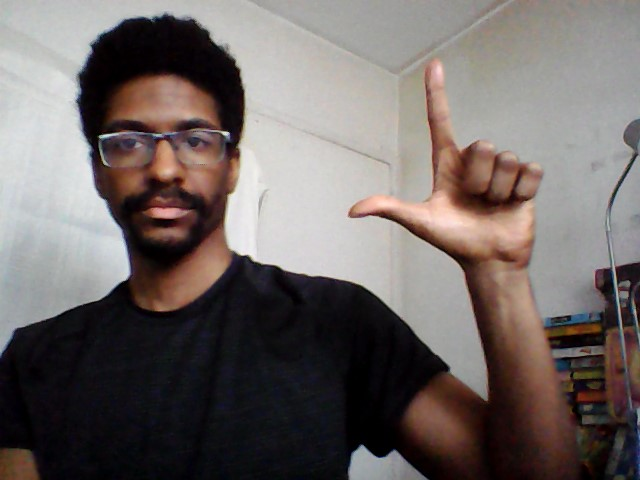l: (342, 52, 548, 272)
